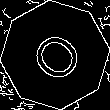O_SE: (22, 22, 88, 88)
